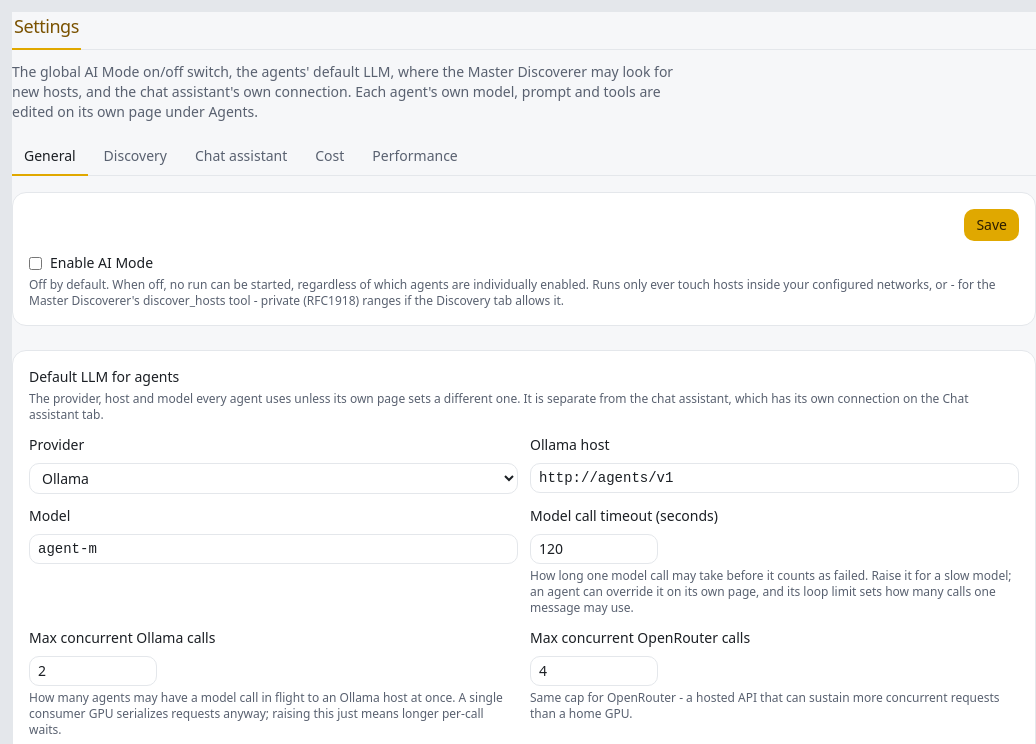
it: AiConfigPage › fills in the OpenRouter endpoint and model when that provider is chosen, and restores Ollama after
Click the tab "Chat assistant" at coordinates (241, 157), box x1=183 y1=138 x2=299 y2=176
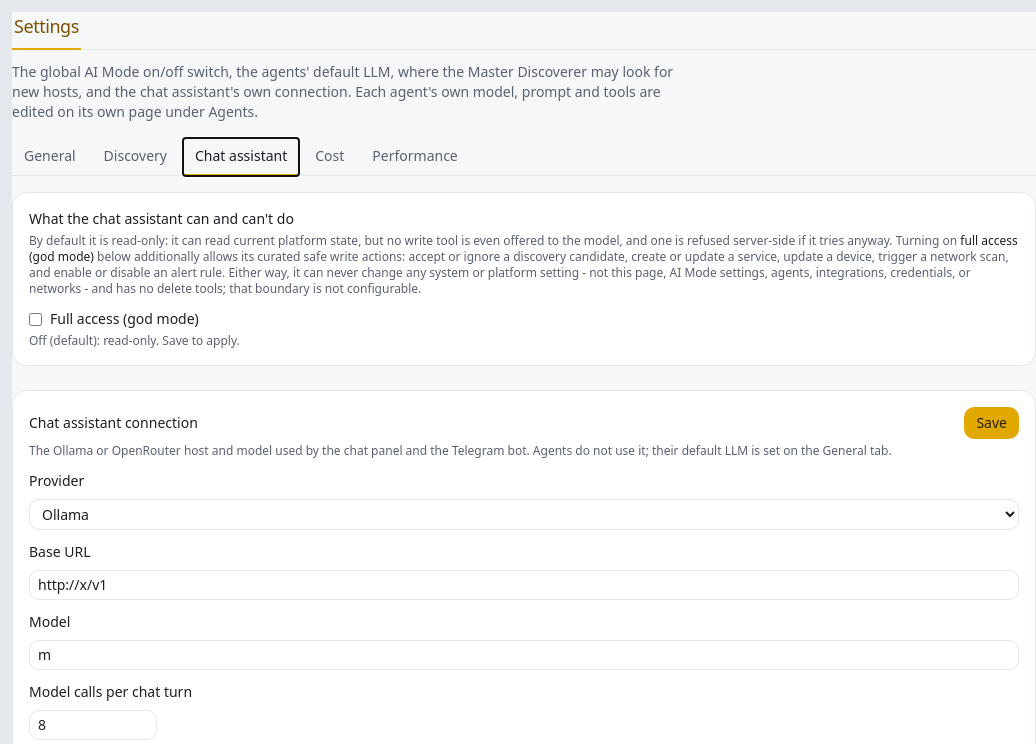
Select "OpenRouter" in the dropdown labelled "Provider" at coordinates (524, 514), box x1=29 y1=499 x2=1019 y2=530
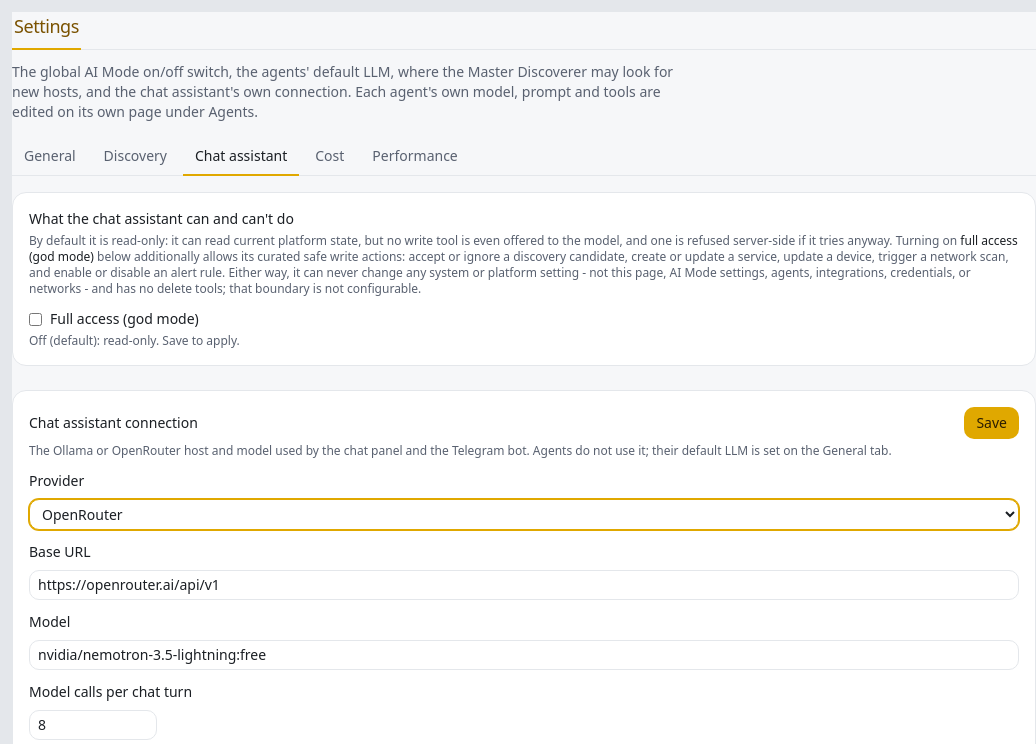
Expected: the field labelled "Base URL" holds "https://openrouter.ai/api/v1", x1=29 y1=570 x2=1019 y2=600
Expected: the field labelled "Model" holds "nvidia/nemotron-3.5-lightning:free", x1=29 y1=640 x2=1019 y2=670
Select "Ollama" in the dropdown labelled "Provider" at coordinates (524, 514), box x1=29 y1=499 x2=1019 y2=530
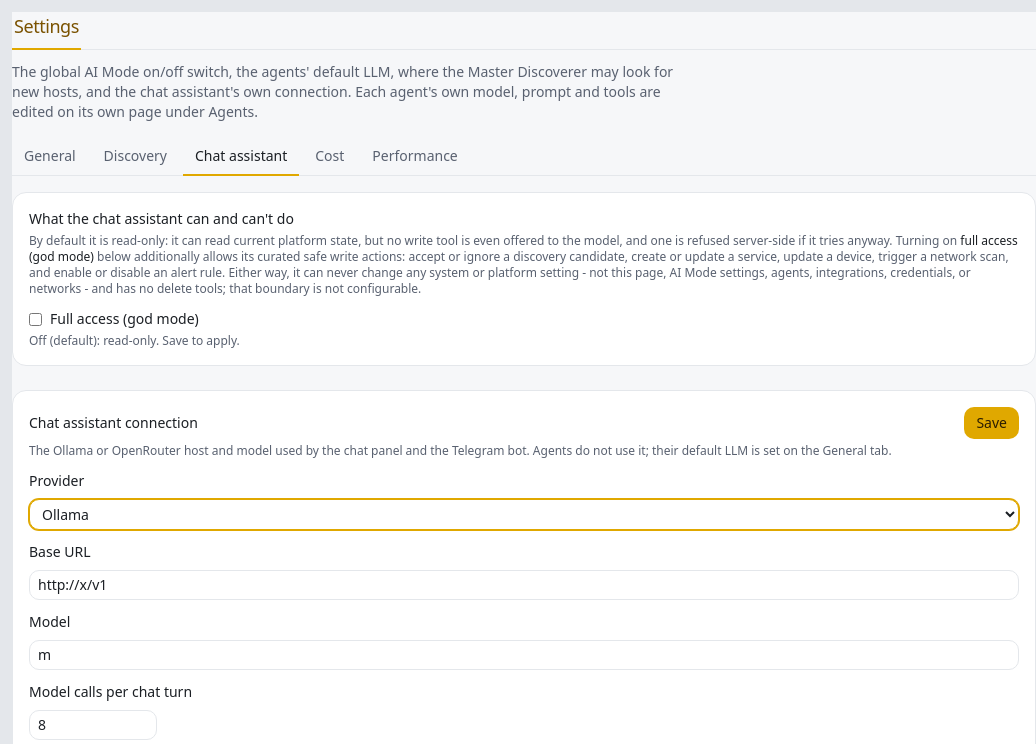
Expected: the field labelled "Base URL" holds "http://x/v1", x1=29 y1=570 x2=1019 y2=600
Expected: the field labelled "Model" holds "m", x1=29 y1=640 x2=1019 y2=670
